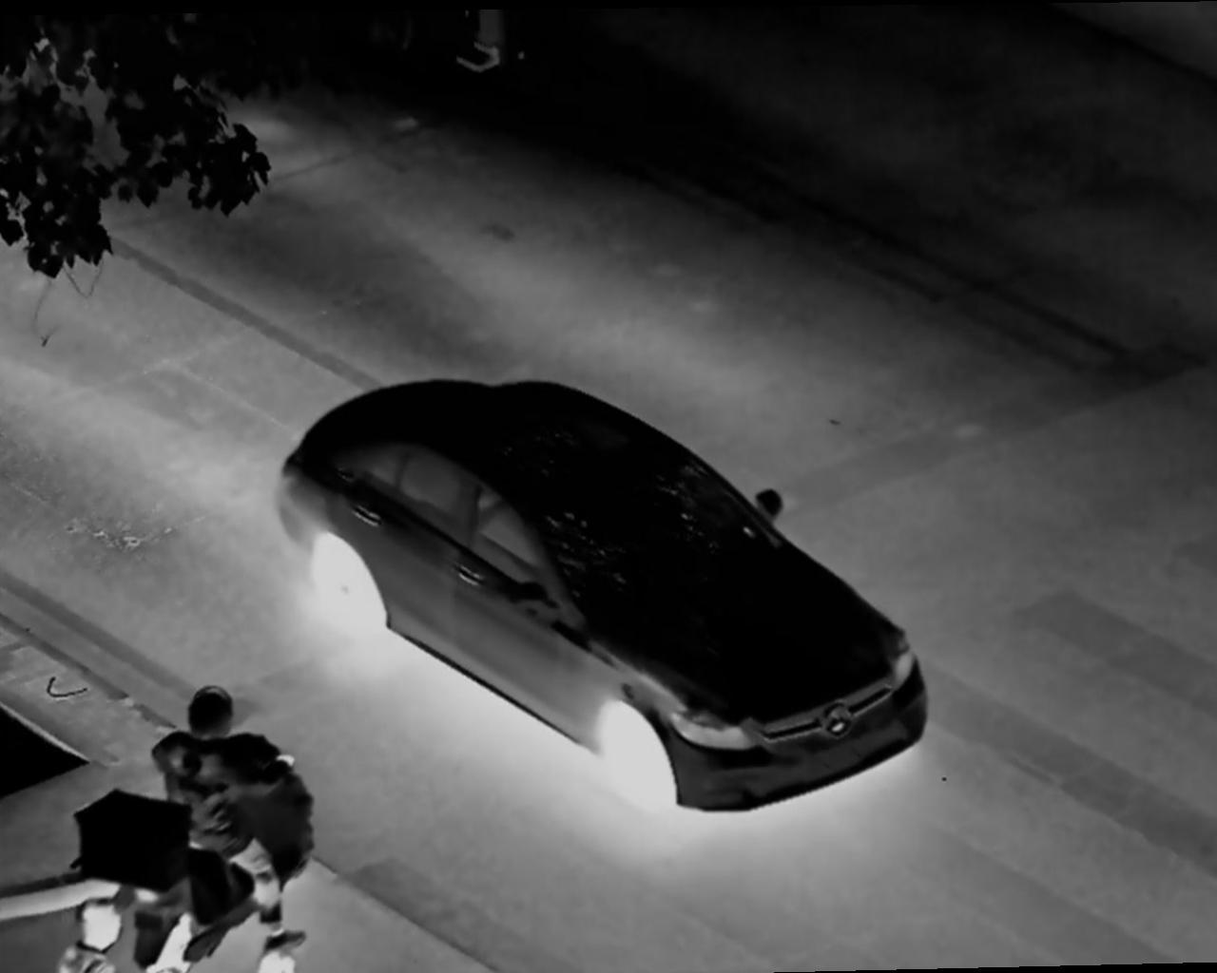person: (155, 677, 309, 973)
